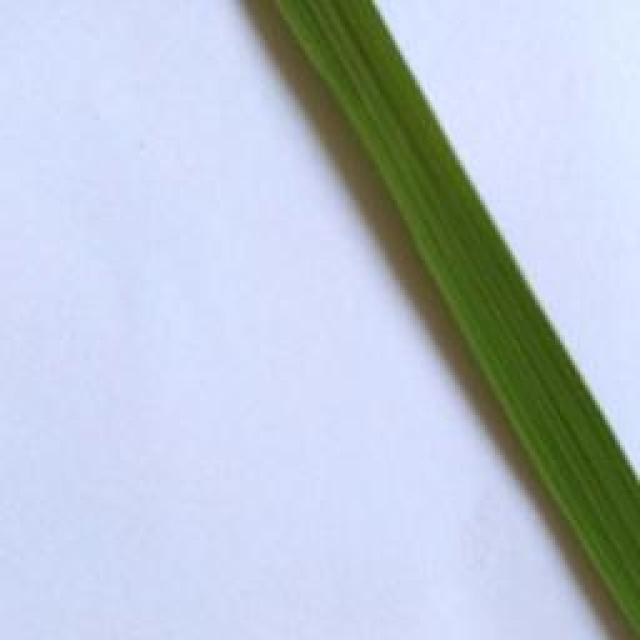Healthy-Plant: (260, 0, 640, 640)
